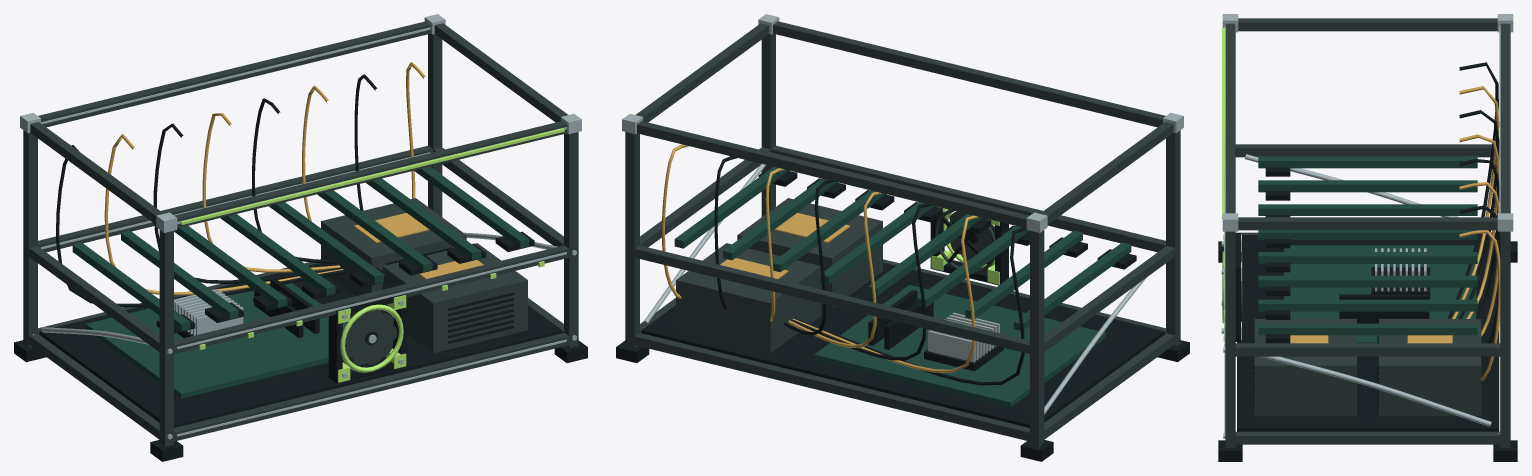
File: rig-runtime-8-none-none.glb
3 views of the same model, side by side, from view 1: azimuth 30°, elevation 25°; view 2: azimuth 150°, elevation 25°; view 3: azimuth 270°, elevation 25° (orthographic).
Visible parts, largest first — view 1: Anodized graphite (×2), Circuit board, Rubber and ABS (×2), Brushed aluminium, rig-runtime-8-none-none, Lime accents, Contacts, slot-cable-1, slot-cable-2, slot-cable-3, slot-cable-4, slot-cable-5; view 2: Anodized graphite (×2), Circuit board, Rubber and ABS (×2), Brushed aluminium, Contacts, slot-cable-1, slot-cable-2, slot-cable-3, slot-cable-4, slot-cable-5, Lime accents, slot-cable-8; view 3: Anodized graphite, Circuit board, Rubber and ABS (×2), Brushed aluminium, slot-cable-1, Contacts, rig-runtime-8-none-none, slot-cable-2, slot-cable-3, slot-cable-4, slot-cable-8, slot-cable-5 (+2 smaller).
Part boxes in pixels (x1,y1,x2,y2): Anodized graphite (×2): [23, 21, 578, 446]; Circuit board: [72, 166, 529, 398]; Rubber and ABS (×2): [14, 231, 587, 461]; Brushed aluminium: [20, 14, 581, 439]; rig-runtime-8-none-none: [180, 128, 564, 224]; Lime accents: [338, 294, 406, 382]; Contacts: [354, 213, 483, 279]; slot-cable-1: [56, 145, 344, 307]; slot-cable-2: [104, 134, 343, 295]; slot-cable-3: [153, 123, 342, 283]; slot-cable-4: [202, 113, 340, 272]; slot-cable-5: [252, 98, 335, 263]; Anodized graphite (×2): [625, 21, 1180, 446]; Circuit board: [674, 166, 1131, 407]; Rubber and ABS (×2): [616, 166, 1189, 461]; Brushed aluminium: [622, 14, 1183, 414]; Contacts: [720, 213, 849, 279]; slot-cable-1: [794, 227, 1026, 385]; slot-cable-2: [792, 215, 979, 372]; slot-cable-3: [791, 203, 930, 360]; slot-cable-4: [788, 191, 882, 347]; slot-cable-5: [784, 180, 833, 335]; Lime accents: [931, 206, 999, 284]; slot-cable-8: [662, 144, 688, 298]; Anodized graphite: [1225, 18, 1510, 447]; Circuit board: [1258, 156, 1477, 343]; Rubber and ABS (×2): [1218, 167, 1517, 461]; Brushed aluminium: [1222, 14, 1513, 438]; slot-cable-1: [1447, 62, 1498, 318]; Contacts: [1290, 335, 1452, 343]; rig-runtime-8-none-none: [1222, 28, 1225, 218]; slot-cable-2: [1452, 86, 1499, 318]; slot-cable-3: [1458, 110, 1499, 318]; slot-cable-4: [1459, 134, 1499, 318]; slot-cable-8: [1459, 230, 1500, 381]; slot-cable-5: [1459, 159, 1499, 318].
Size of the model in its own units: 6.06 by 3.24 by 3.66.
